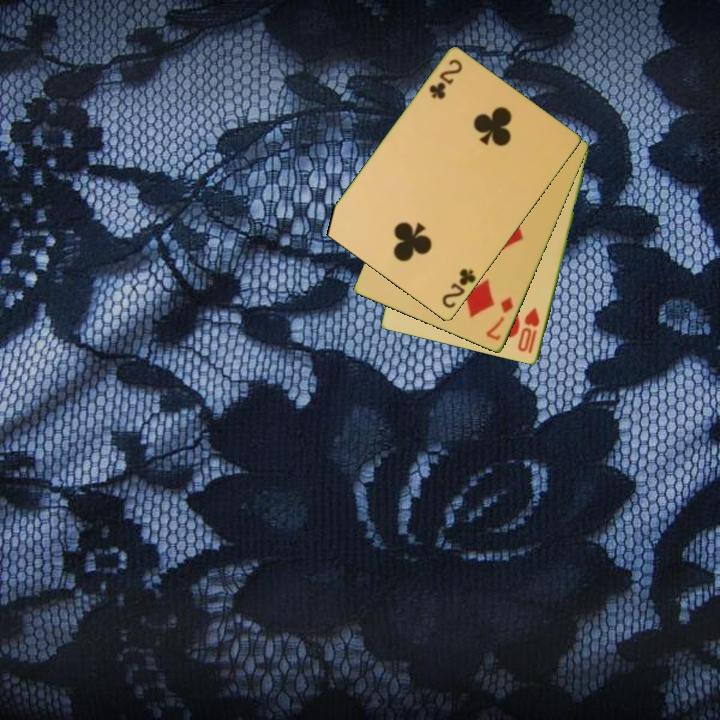10h: (514, 304, 543, 357)
2c: (438, 265, 479, 312), (426, 56, 465, 102)
7d: (482, 294, 516, 344)
